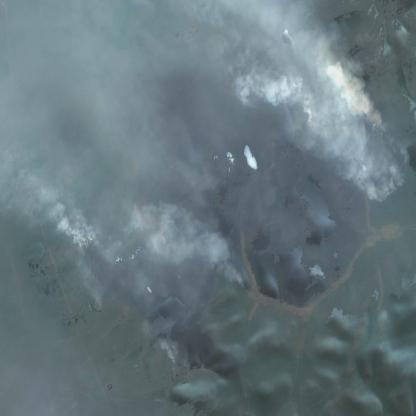fire: (319, 107, 408, 207), (76, 223, 128, 325), (222, 252, 254, 302), (161, 344, 189, 390)
